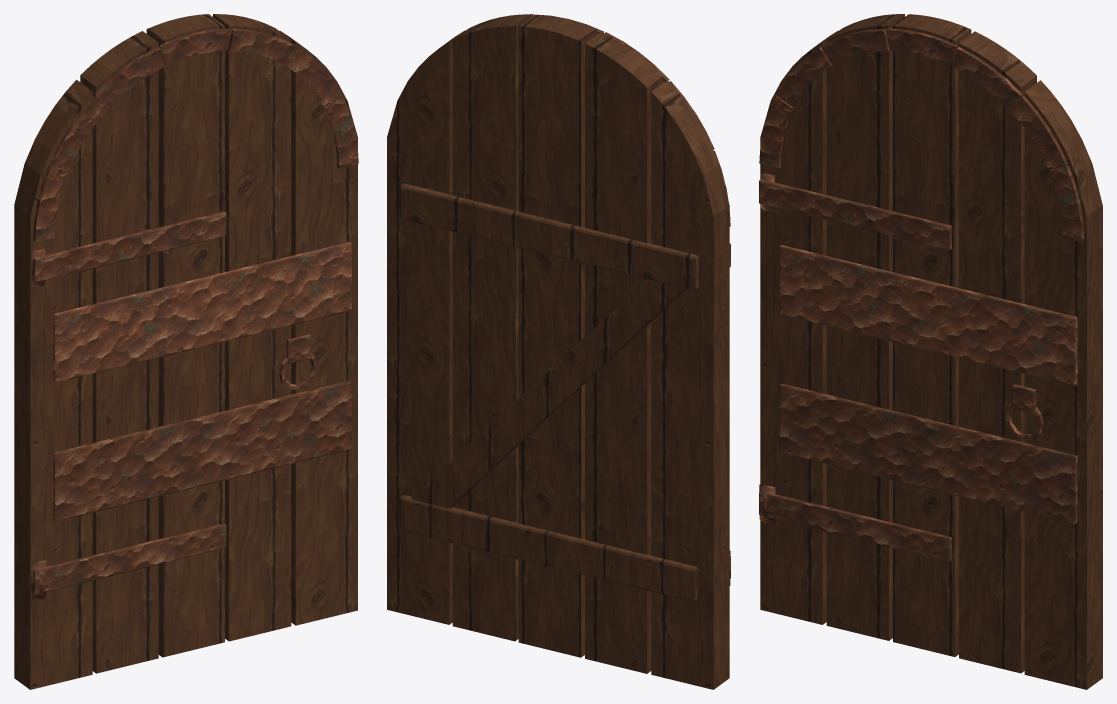
The model's file is door__copper_ingot.glb.
The picture shows the model from 3 angles, left to right: view 1: azimuth 30°, elevation 25°; view 2: azimuth 150°, elevation 25°; view 3: azimuth 330°, elevation 25°; orthographic projection.
Visible parts, largest first — view 1: model; view 2: model; view 3: model.
Boxes of the visible parts, <box> form: model: <box>14,14,358,689</box>; model: <box>387,14,730,689</box>; model: <box>759,14,1102,689</box>.
Size of the model in its own units: 0.988 by 1.79 by 0.1192.
Materials: 4 (4 with a texture image).
